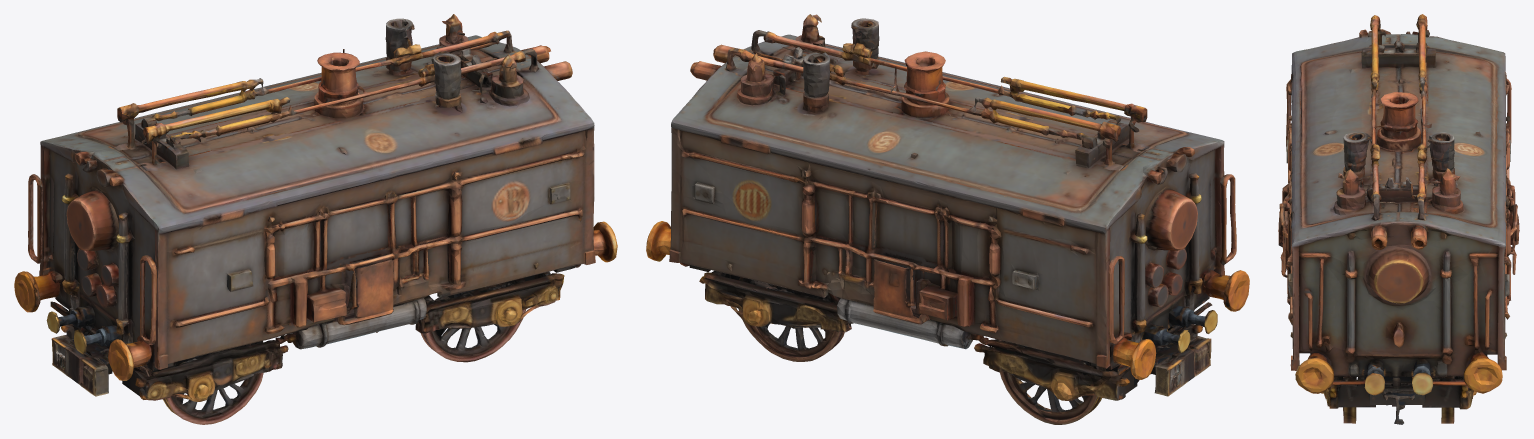
Rendered from steampunk_freight_car_0616122732_texture.fbx.
3 views of the same model, side by side, from view 1: azimuth 30°, elevation 25°; view 2: azimuth 150°, elevation 25°; view 3: azimuth 270°, elevation 25° (orthographic). The views are drawn at different scales.
Parts seen in each view (by area): view 1: temp; view 2: temp; view 3: temp.
Boxes of the visible parts, <box> form: temp: <box>14,14,617,424</box>; temp: <box>646,14,1249,424</box>; temp: <box>1278,14,1519,424</box>.
Size of the model in its own units: 200 by 115 by 92.15.
1 material, 1 textured.
